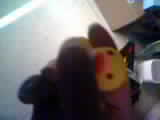duck: (76, 34, 127, 85)
